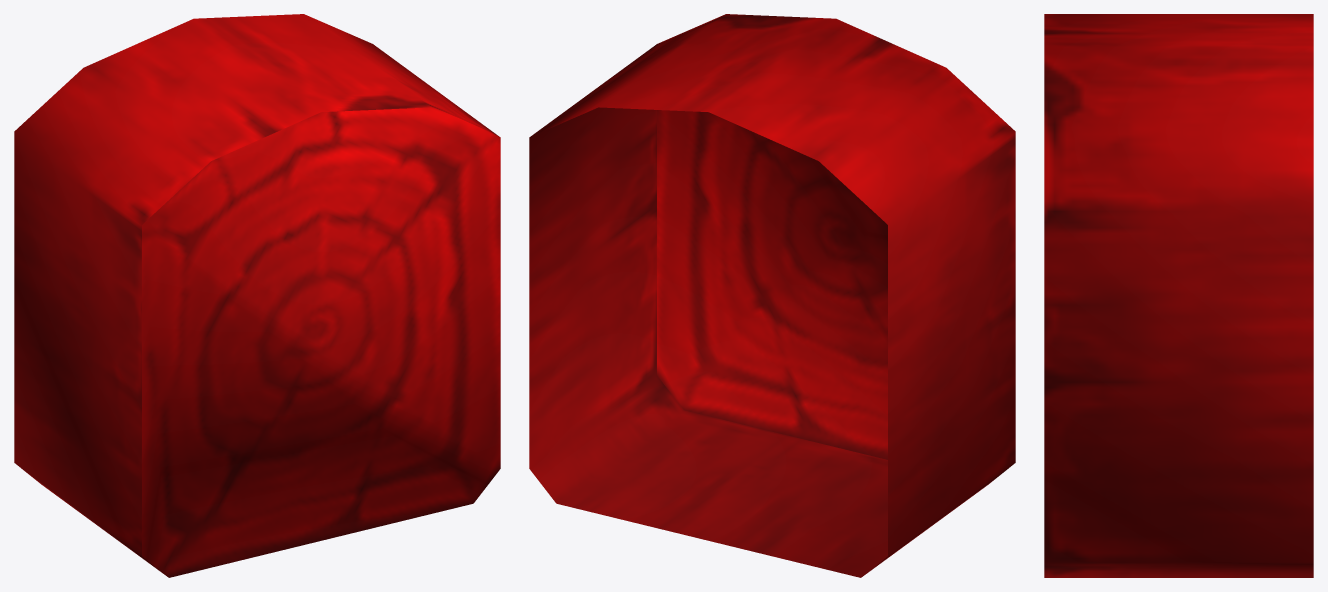
The model's file is RoofEnd01.fbx.
The picture shows the model from 3 angles, left to right: view 1: azimuth 30°, elevation 25°; view 2: azimuth 150°, elevation 25°; view 3: azimuth 270°, elevation 25°; orthographic projection. The views are drawn at different scales.
Parts seen in each view (by area): view 1: RoofEnd01; view 2: RoofEnd01; view 3: RoofEnd01.
Boxes of the visible parts, x1,y1,x2,y2 form: RoofEnd01: (14,14,500,577); RoofEnd01: (529,14,1015,577); RoofEnd01: (1044,14,1313,577).
Size of the model in its own units: 0.272 by 0.3107 by 0.1677.
